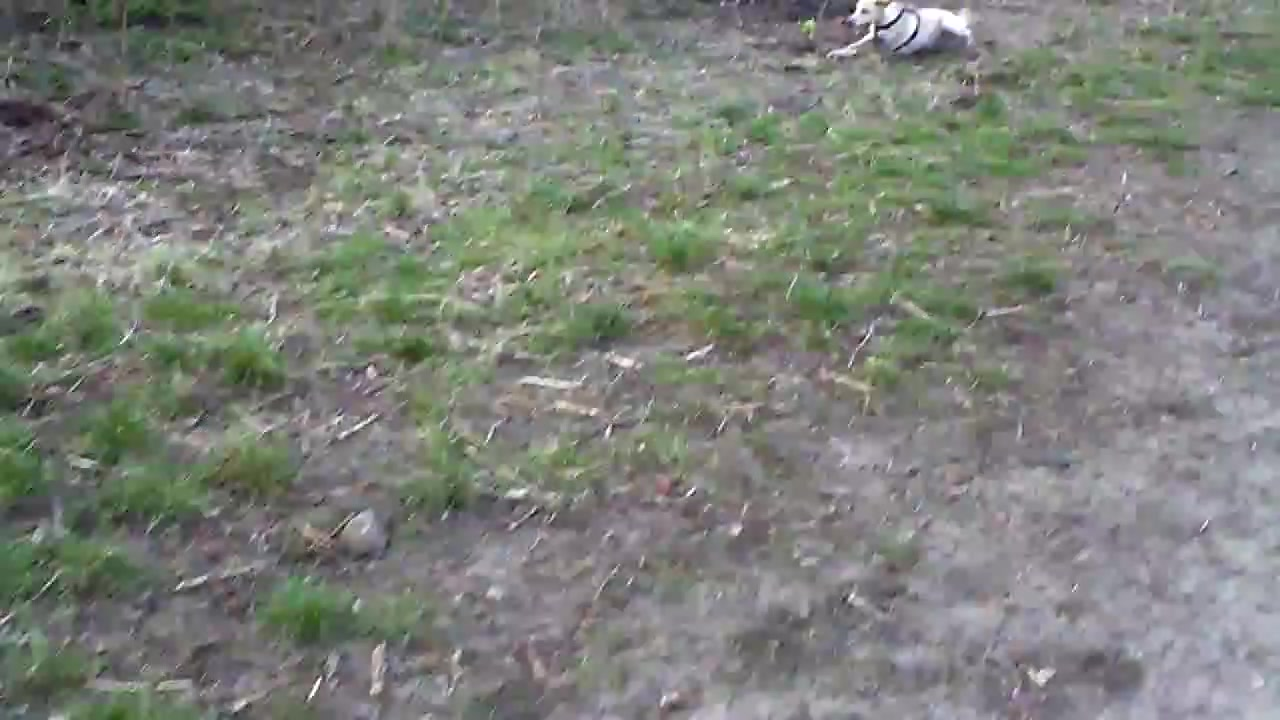dog: (817, 1, 980, 65)
